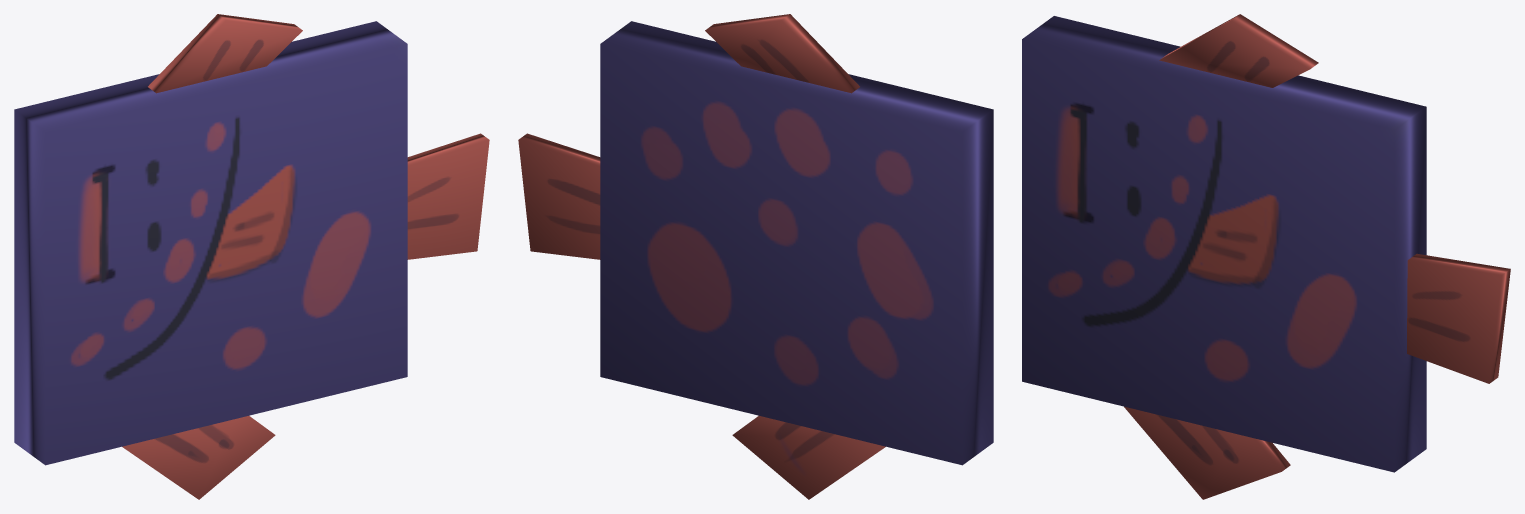
File: Fish_FlstFish.fbx
The picture shows the model from 3 angles, left to right: view 1: azimuth 30°, elevation 25°; view 2: azimuth 150°, elevation 25°; view 3: azimuth 330°, elevation 25°; orthographic projection. The views are drawn at different scales.
Parts seen in each view (by area): view 1: Fish6:pCube1, Fish6:pCube4, Fish6:pCube3, Fish6:pCube2; view 2: Fish6:pCube1, Fish6:pCube4, Fish6:pCube3, Fish6:pCube2; view 3: Fish6:pCube1, Fish6:pCube4, Fish6:pCube3, Fish6:pCube2.
Boxes of the visible parts, left/top/right/bottom form: Fish6:pCube1: left=14, top=21, right=407, bottom=465; Fish6:pCube4: left=407, top=133, right=489, bottom=259; Fish6:pCube3: left=122, top=416, right=275, bottom=499; Fish6:pCube2: left=148, top=14, right=302, bottom=93; Fish6:pCube1: left=600, top=21, right=993, bottom=465; Fish6:pCube4: left=518, top=133, right=600, bottom=259; Fish6:pCube3: left=732, top=416, right=885, bottom=499; Fish6:pCube2: left=705, top=14, right=859, bottom=93; Fish6:pCube1: left=1022, top=16, right=1426, bottom=472; Fish6:pCube4: left=1407, top=253, right=1510, bottom=383; Fish6:pCube3: left=1124, top=406, right=1290, bottom=499; Fish6:pCube2: left=1159, top=14, right=1318, bottom=87.
Bounding box in the file's own units: 4.31 × 4.28 × 0.5098.
1 material, 1 textured.
